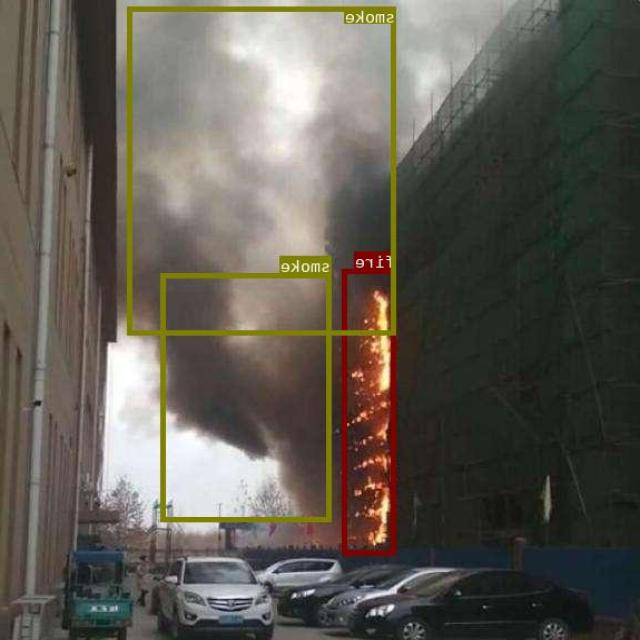fire: (344, 268, 397, 555)
smoke: (129, 6, 397, 333), (162, 273, 332, 521)
